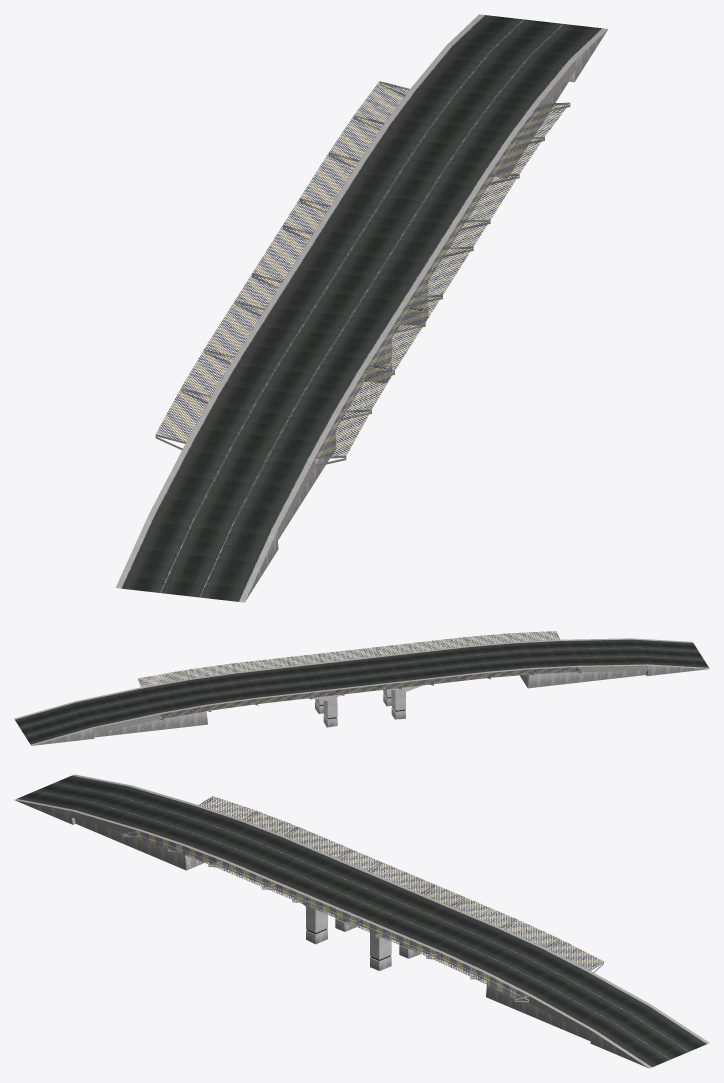
File: airprtgnd_02_sfse.obj
3 views of the same model, one above another, from view 1: azimuth 30°, elevation 25°; view 2: azimuth 150°, elevation 25°; view 3: azimuth 270°, elevation 25° (orthographic). The views are drawn at different scales.
Visible parts, largest first — view 1: airprtgnd_02_SFSe; view 2: airprtgnd_02_SFSe; view 3: airprtgnd_02_SFSe.
Boxes of the visible parts, x1,y1,x2,y2 form: airprtgnd_02_SFSe: [115, 14, 607, 602]; airprtgnd_02_SFSe: [14, 631, 709, 745]; airprtgnd_02_SFSe: [14, 774, 709, 1068].
Bounding box in the file's own units: 184 × 16.16 × 184.
Materials: 6 (6 with a texture image).
